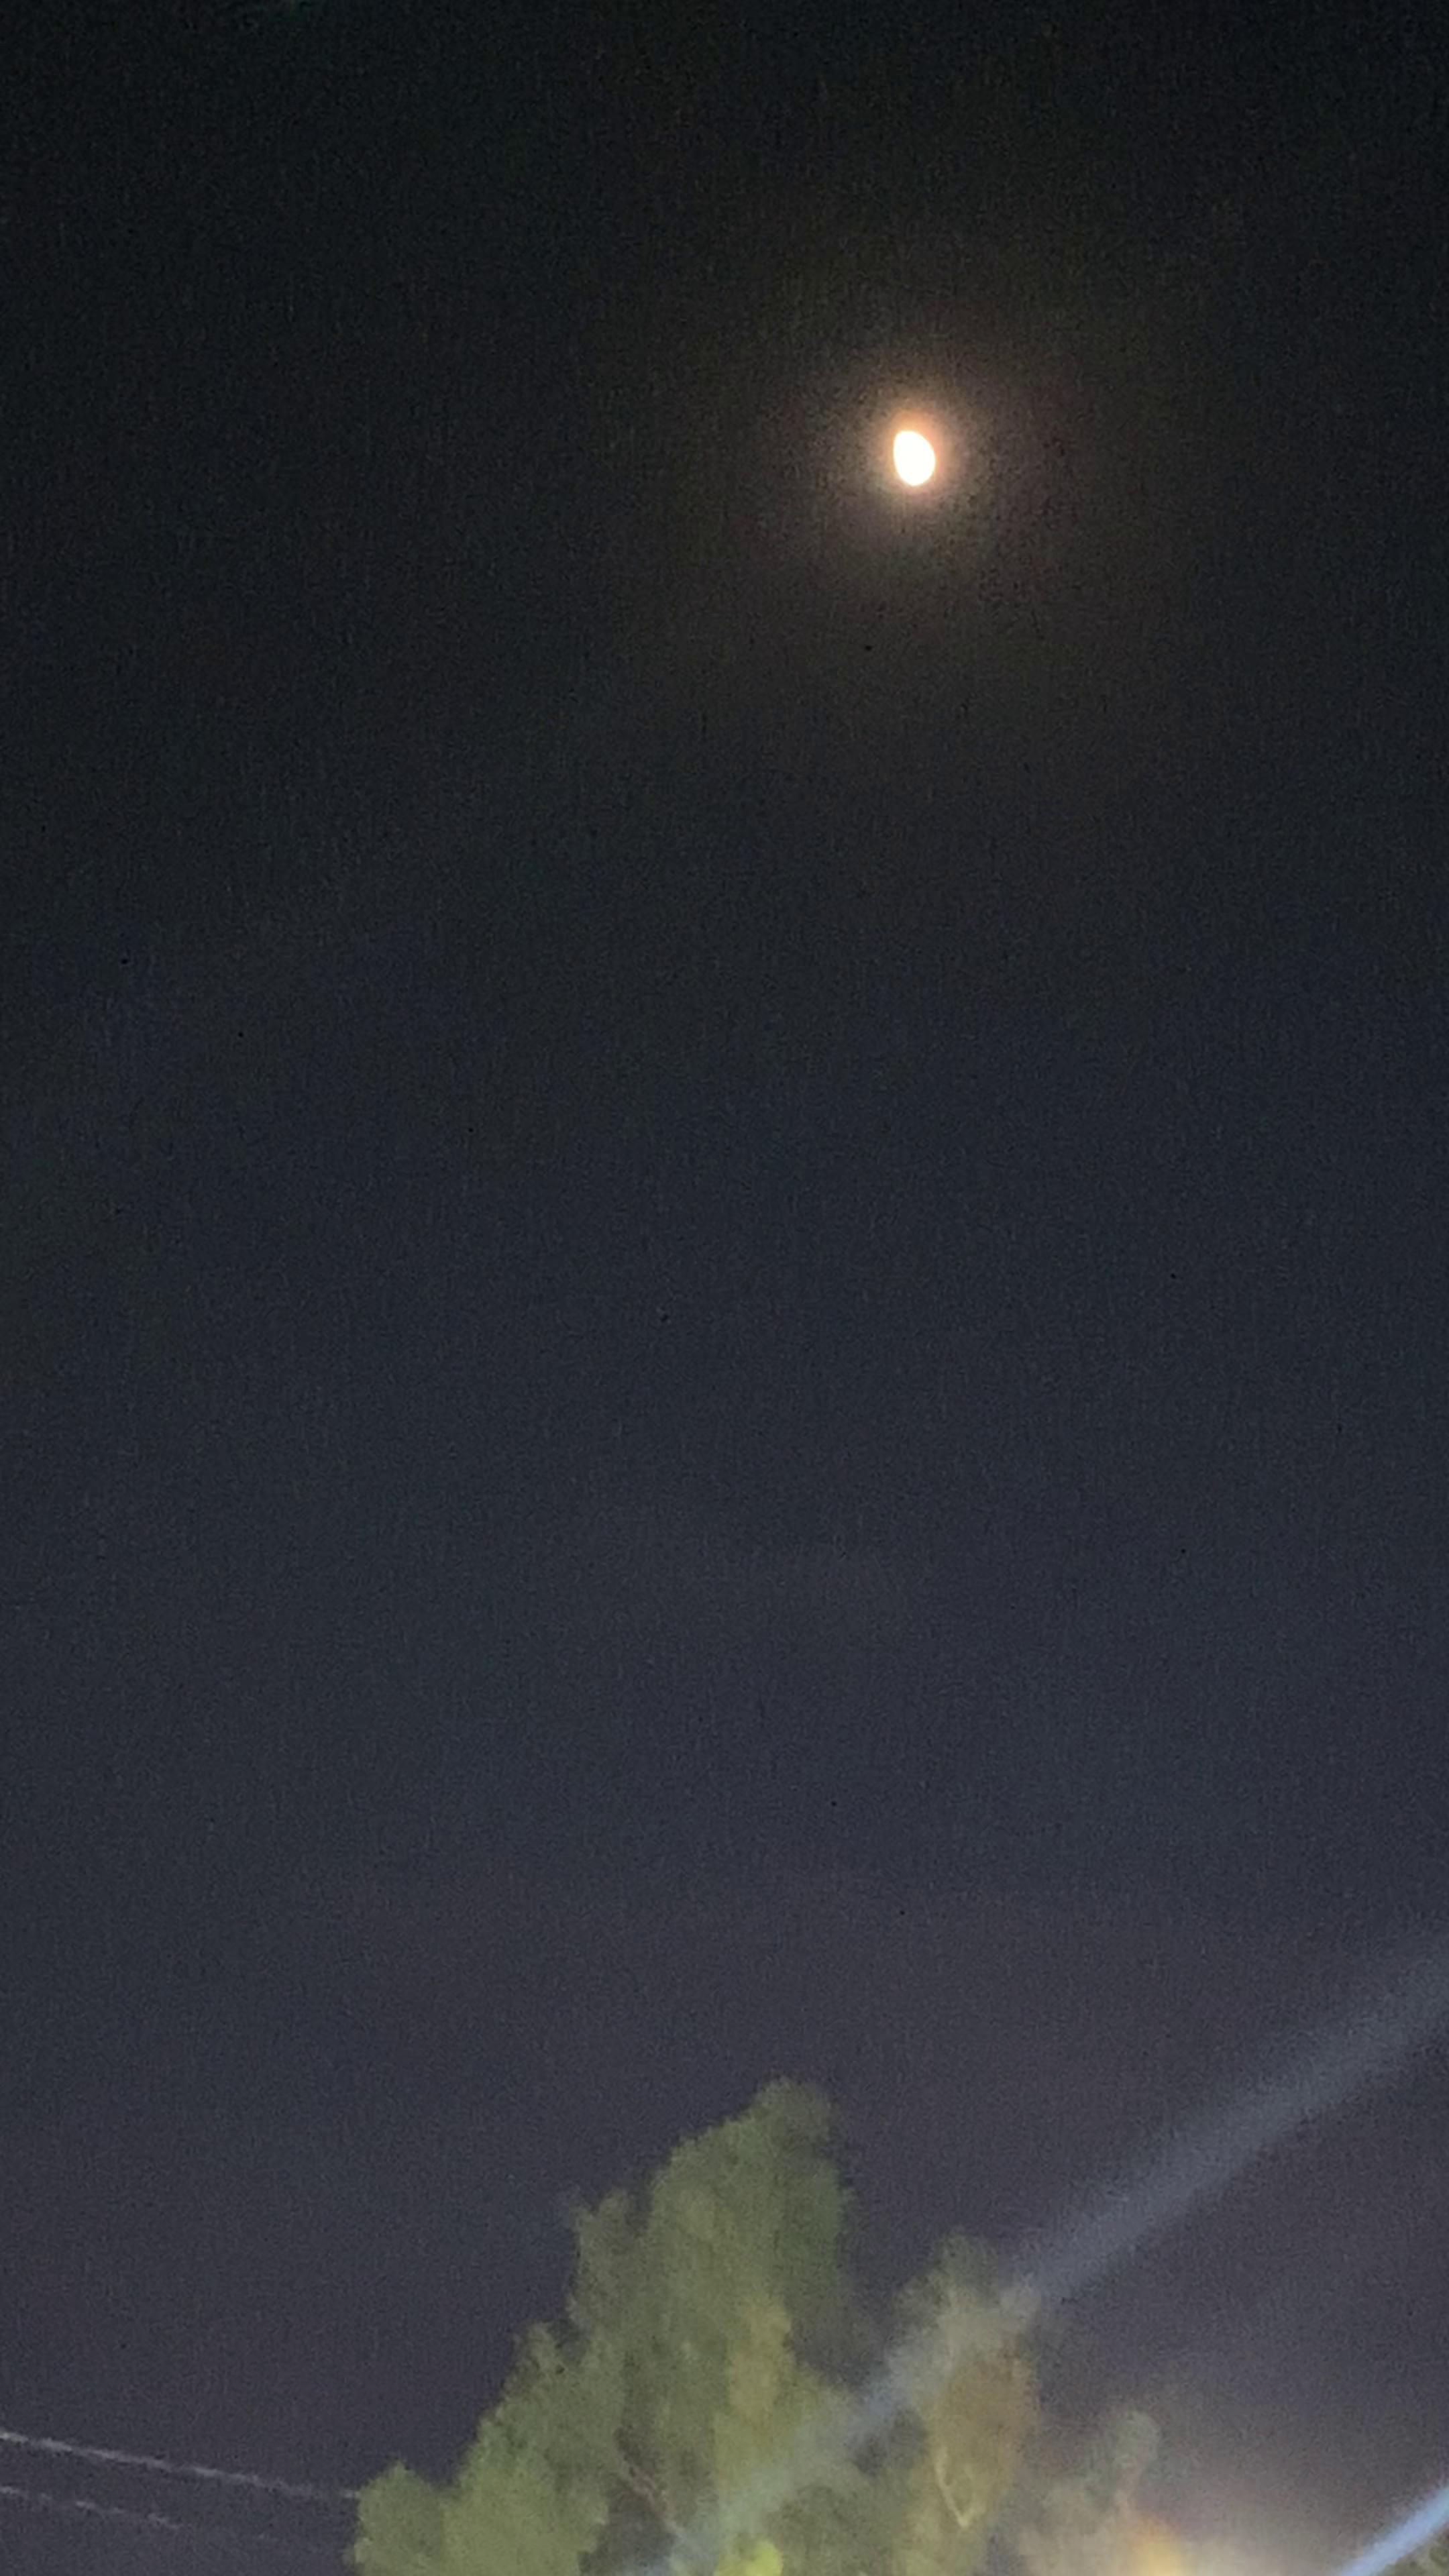moon: (849, 382, 968, 510)
